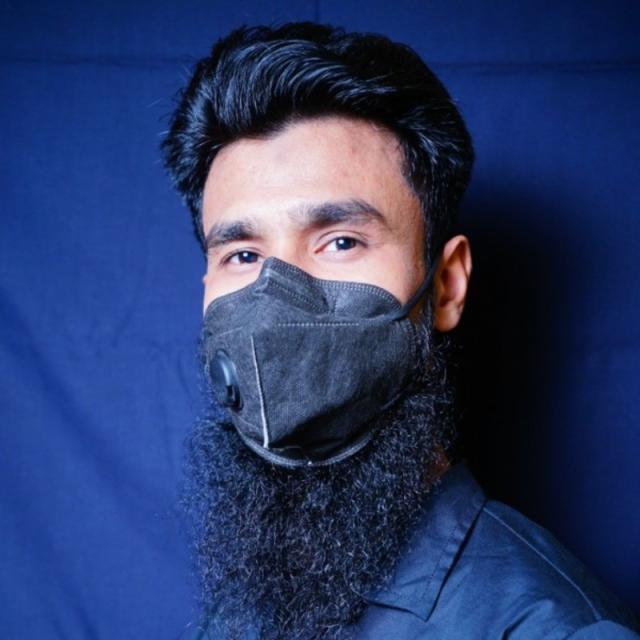color wala: (155, 17, 488, 485)
